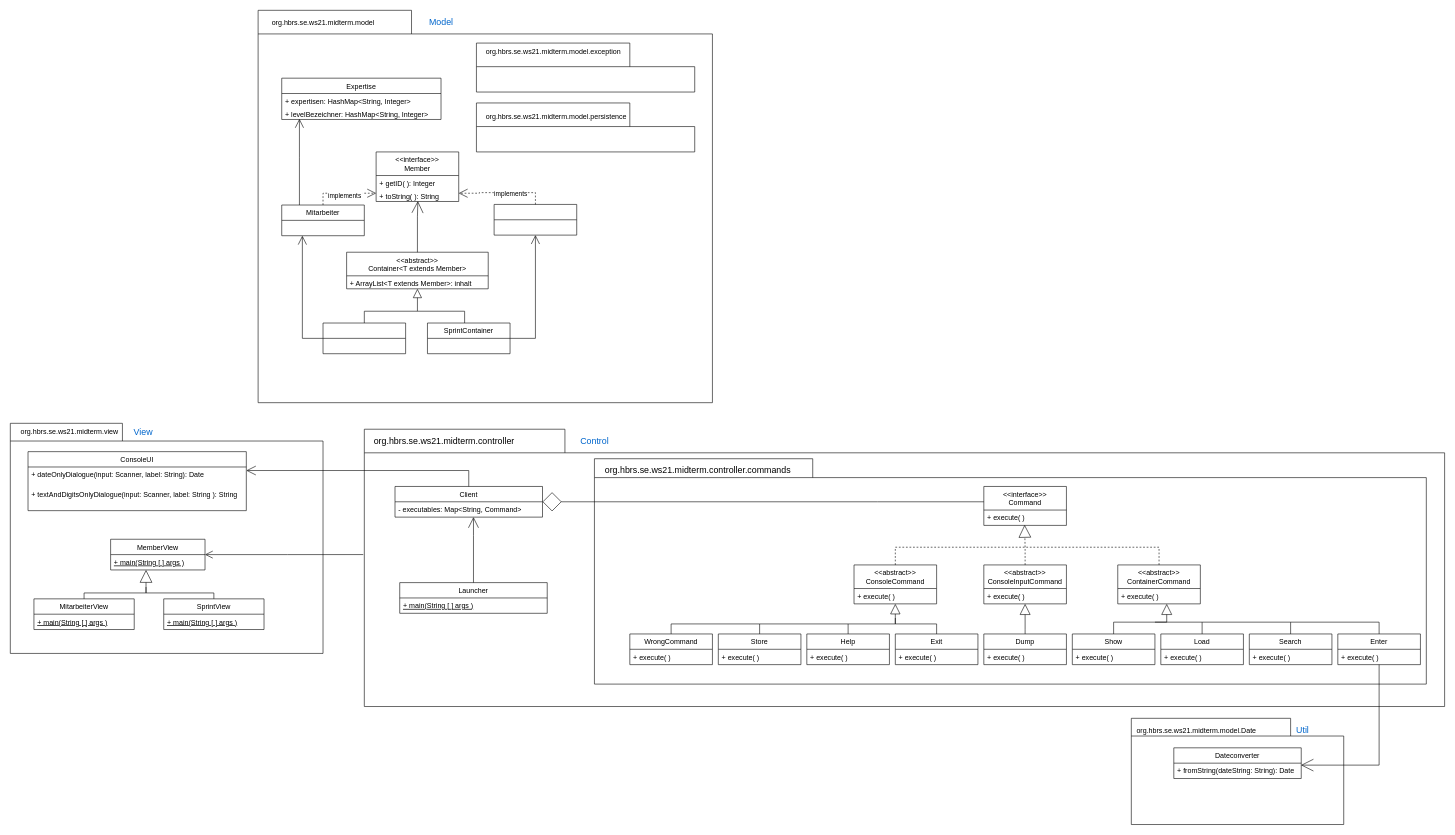
Some shapes in this 1455 by 835 pixel diagram are drawn without their labels. Each missing label, with the centre of its shape:
"MitarbeiterContainer" belongs at (x=364, y=338).
"Sprint" belongs at (x=535, y=219).
